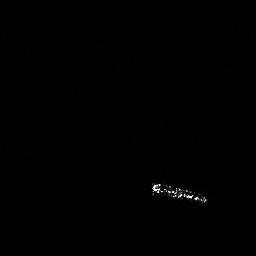ship: (151, 182, 207, 204)
